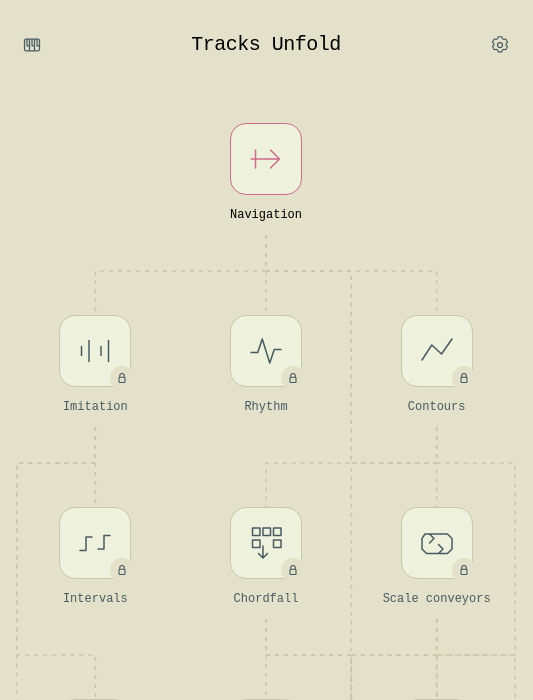
Test case: App › opens the puzzle introduction from the instrument menu
The image size is (533, 700).
What coordinates should you click on to do the following:
click the button with aria-label "note navigation"
I would click on:
 (266, 179)
Its box is [181,123,351,235].
(page scrolled)
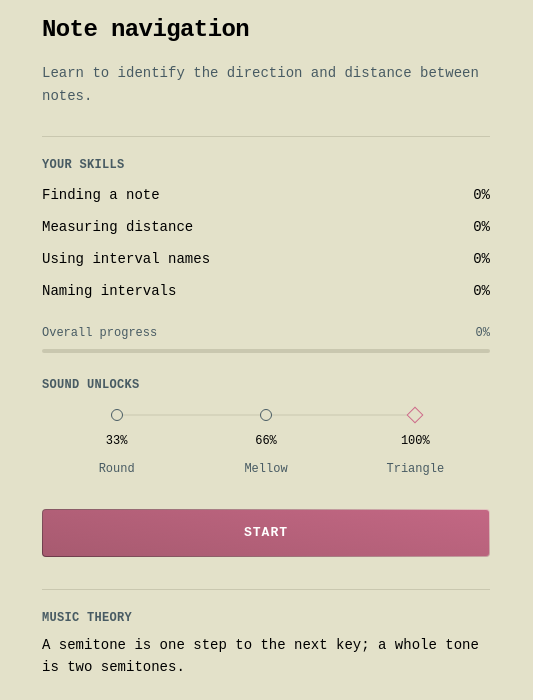
Check: the heading "Note navigation" is shown, box [42,16,249,43]
Check: the button "Start" is enabled, box [42,508,490,556]
Check: the text "Learn to identify the direction and distance between notes." is shown, box [42,62,490,108]
